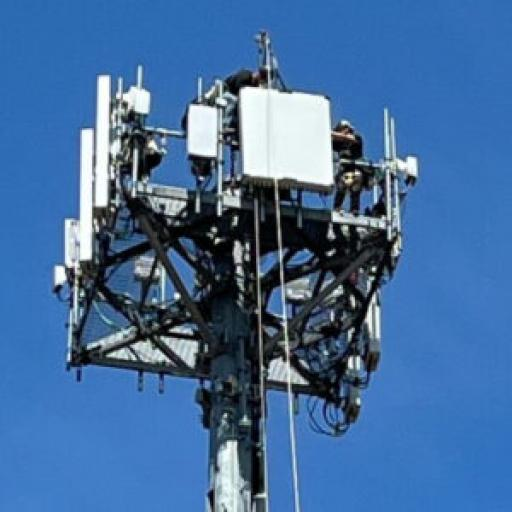monopole_tower: (54, 29, 422, 512)
